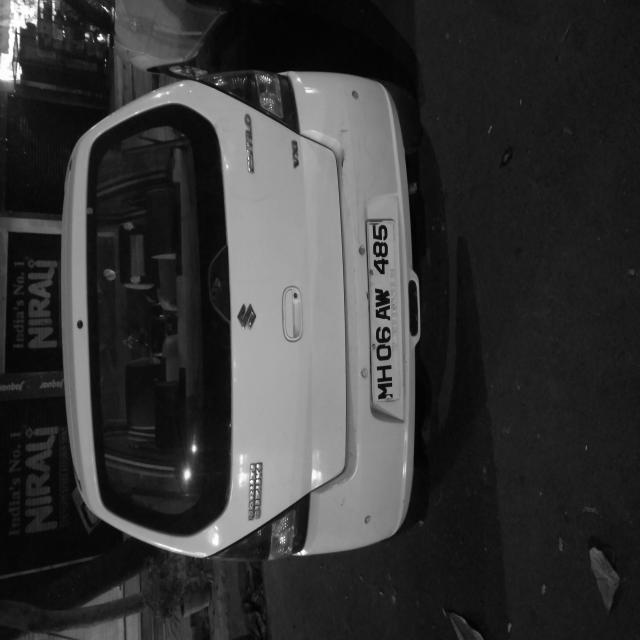car: (51, 63, 434, 584)
license-plate: (166, 488, 323, 544)
